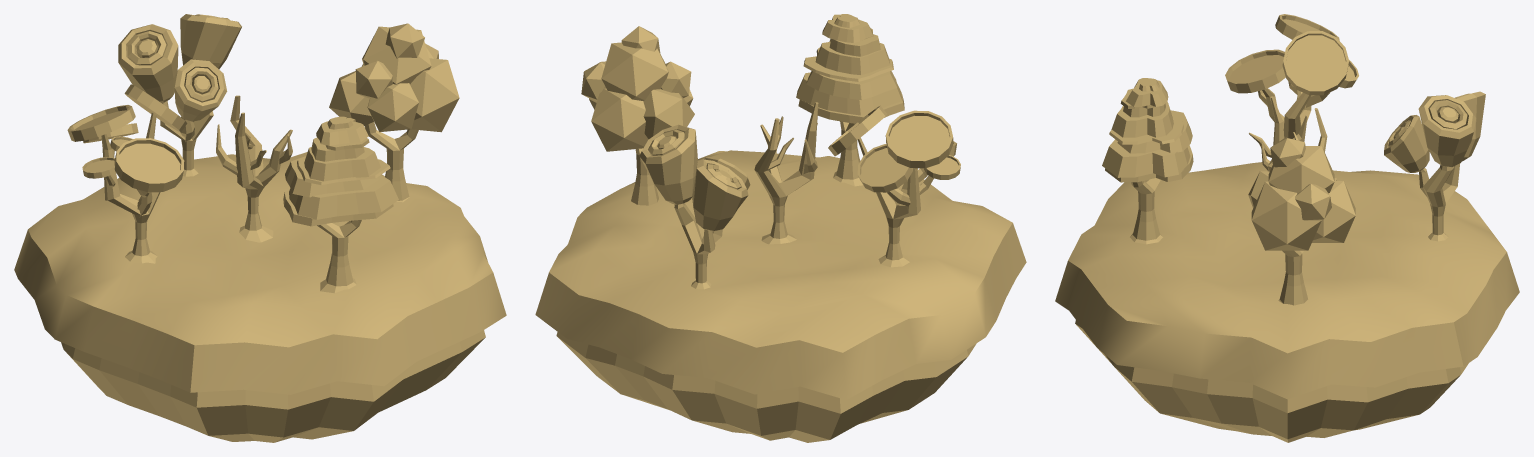
Rendered from Low_Poly_Trees.glb.
The picture shows the model from 3 angles, left to right: view 1: azimuth 30°, elevation 25°; view 2: azimuth 150°, elevation 25°; view 3: azimuth 270°, elevation 25°; orthographic projection. The views are drawn at different scales.
Parts seen in each view (by area): view 1: Plane, Plane.001, Icosphere.003 (×2), Plane.007 (×2), Cylinder.001 (×2), Cylinder.003 (×2), Cylinder.000; view 2: Plane, Plane.001, Icosphere.003 (×2), Cylinder.003 (×2), Plane.007 (×2), Cylinder.001 (×2), Cylinder.000; view 3: Plane, Plane.001, Icosphere.003 (×2), Plane.007 (×2), Cylinder.003 (×2), Cylinder.001 (×2), Cylinder.000.
Part boxes in pixels (<box>): Plane: <box>14,152,506,394</box>; Plane.001: <box>61,330,485,442</box>; Icosphere.003 (×2): <box>329,23,459,202</box>; Plane.007 (×2): <box>283,116,398,293</box>; Cylinder.001 (×2): <box>118,14,241,176</box>; Cylinder.003 (×2): <box>67,84,187,263</box>; Cylinder.000: <box>216,95,292,242</box>; Plane: <box>535,150,1026,399</box>; Plane.001: <box>556,332,976,442</box>; Icosphere.003 (×2): <box>581,26,694,205</box>; Cylinder.003 (×2): <box>828,105,960,267</box>; Plane.007 (×2): <box>796,14,904,186</box>; Cylinder.001 (×2): <box>639,124,750,289</box>; Cylinder.000: <box>754,102,818,244</box>; Plane: <box>1055,162,1519,399</box>; Plane.001: <box>1075,320,1468,442</box>; Icosphere.003 (×2): <box>1248,137,1355,305</box>; Plane.007 (×2): <box>1102,78,1193,244</box>; Cylinder.003 (×2): <box>1225,14,1358,138</box>; Cylinder.001 (×2): <box>1384,91,1485,241</box>; Cylinder.000: <box>1249,96,1327,170</box>.
Bounding box in the file's own units: 37.38 × 31.3 × 37.38.
